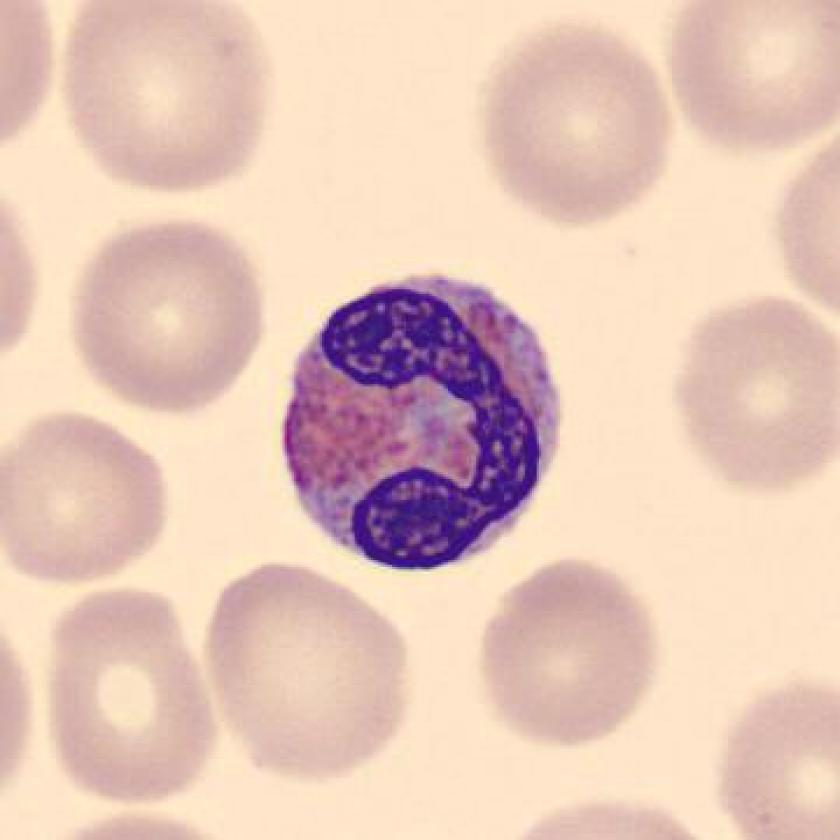eosinophil: (267, 263, 577, 577)
